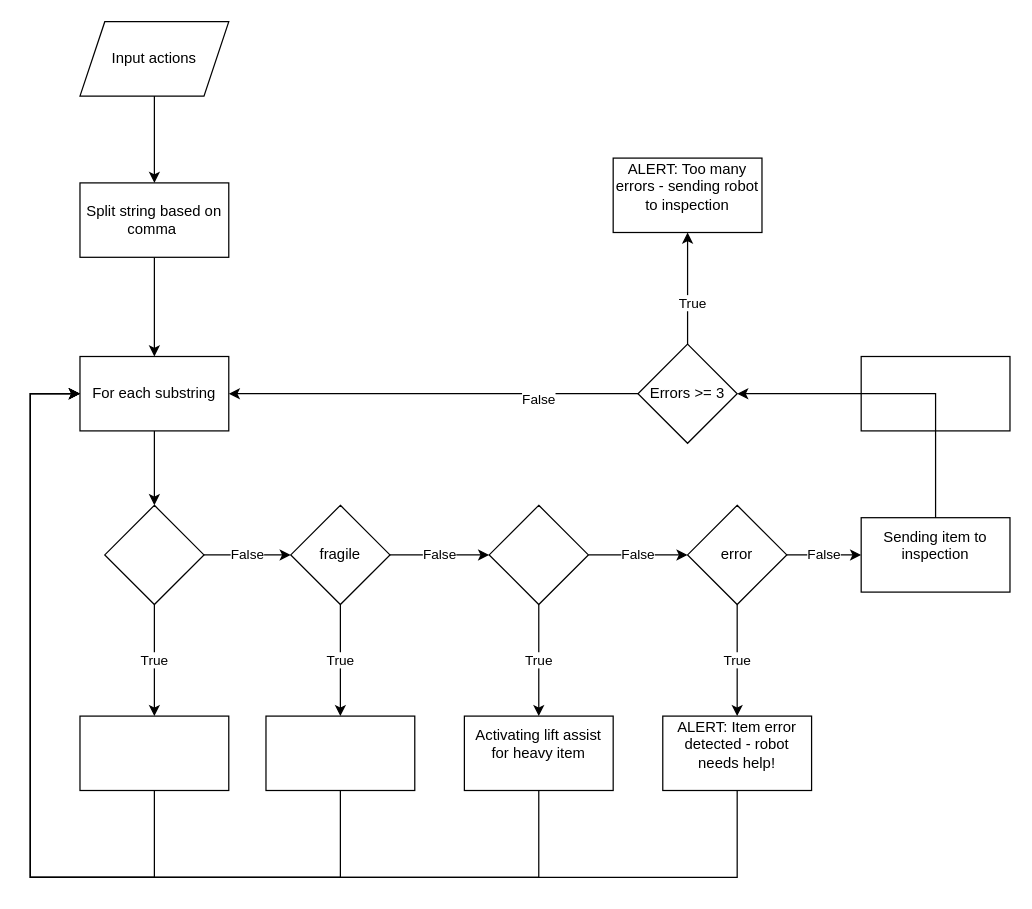
The diagram is 1032 pixels wide and 909 high, and some of its shapes have lost their labels. The box of each missing label's shape, as (x1, y1, x2, y2) in pixels:
Errors += 1: (860, 355, 1010, 431)
Handling fragile item with care: (265, 715, 415, 790)
heavy: (488, 504, 588, 604)
Moving item to standard bin: (79, 715, 229, 790)
normal: (104, 504, 204, 604)
